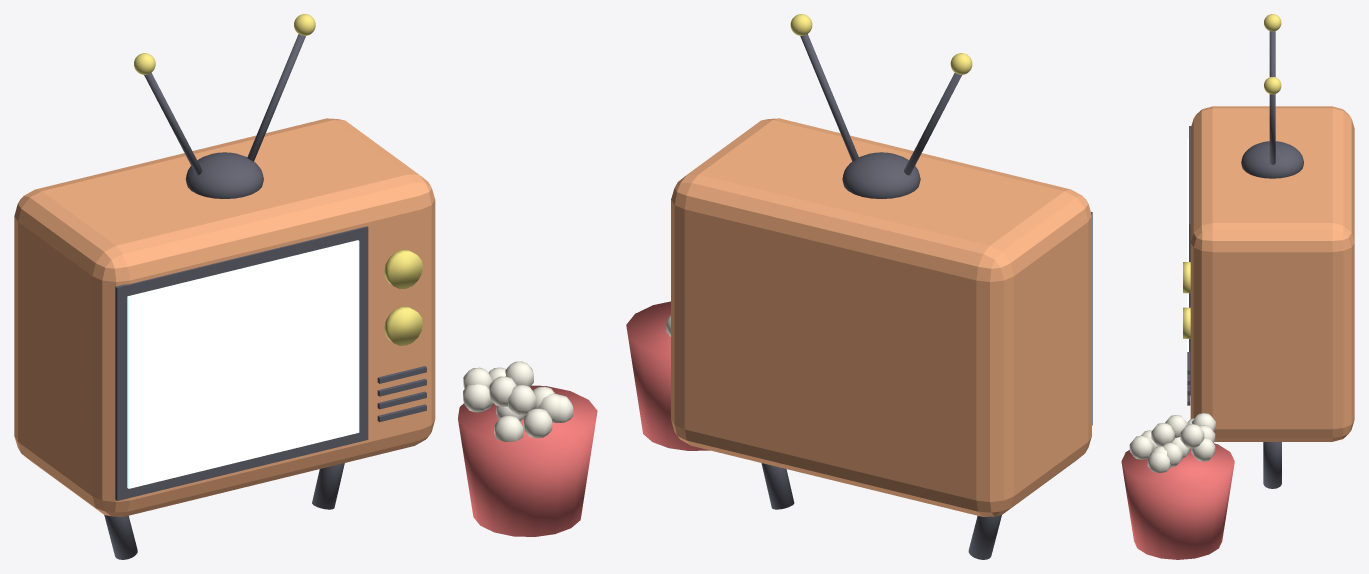
The model's file is place_tv.glb.
3 renders of one model, left to right at view 1: azimuth 30°, elevation 25°; view 2: azimuth 150°, elevation 25°; view 3: azimuth 270°, elevation 25°, orthographic. The views are drawn at different scales.
Parts seen in each view (by area): view 1: Body, Screen, Bucket, Bezel, AntBase, Knob1, Knob0, Antenna1, Leg-1, Leg1, Antenna-1, Pop2; view 2: Body, Bucket, AntBase, Antenna1, Leg-1, Leg1, Antenna-1; view 3: Body, Bucket, AntBase, Leg1, Antenna1, Pop7, Pop2, Pop0, Pop11, Pop6, Bezel, Screen (+3 smaller).
Part boxes in pixels (left/top/right/bottom): Body: left=14, top=118, right=435, bottom=516; Screen: left=127, top=240, right=359, bottom=488; Bucket: left=458, top=385, right=597, bottom=536; Bezel: left=115, top=226, right=368, bottom=500; AntBase: left=185, top=152, right=263, bottom=198; Knob1: left=384, top=306, right=422, bottom=345; Knob0: left=384, top=249, right=422, bottom=288; Antenna1: left=247, top=34, right=305, bottom=161; Leg-1: left=104, top=515, right=137, bottom=559; Leg1: left=312, top=463, right=344, bottom=509; Antenna-1: left=144, top=73, right=202, bottom=175; Pop2: left=523, top=408, right=552, bottom=438; Body: left=671, top=118, right=1091, bottom=516; Bucket: left=626, top=301, right=709, bottom=450; AntBase: left=842, top=152, right=920, bottom=198; Antenna1: left=800, top=34, right=858, bottom=161; Leg-1: left=968, top=515, right=1001, bottom=559; Leg1: left=761, top=463, right=794, bottom=509; Antenna-1: left=904, top=73, right=961, bottom=175; Body: left=1190, top=106, right=1354, bottom=441; Bucket: left=1121, top=443, right=1234, bottom=559; AntBase: left=1241, top=141, right=1303, bottom=178; Leg1: left=1263, top=442, right=1281, bottom=488; Antenna1: left=1269, top=94, right=1275, bottom=164; Pop7: left=1180, top=424, right=1204, bottom=448; Pop2: left=1129, top=435, right=1153, bottom=459; Pop0: left=1151, top=423, right=1175, bottom=446; Pop11: left=1147, top=451, right=1171, bottom=472; Pop6: left=1191, top=438, right=1215, bottom=461; Bezel: left=1189, top=126, right=1191, bottom=395; Screen: left=1187, top=138, right=1188, bottom=382.
Size of the model in its own units: 7 by 7.01 by 3.7.
